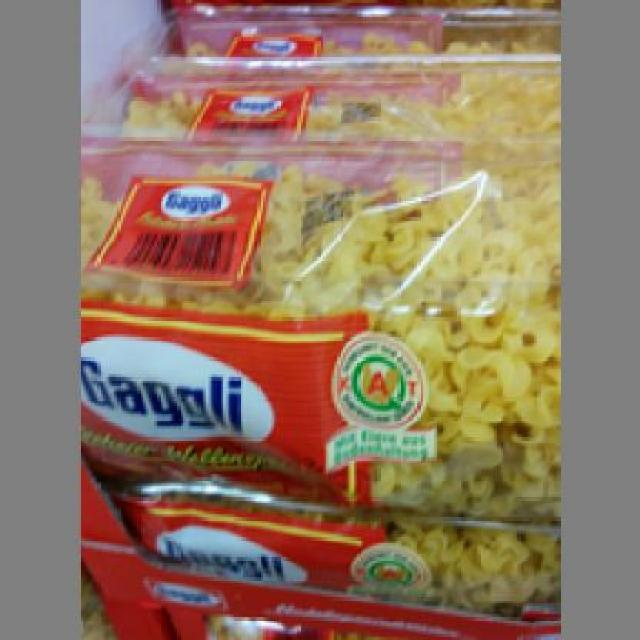Pasta: (77, 137, 554, 520), (80, 19, 557, 135)
